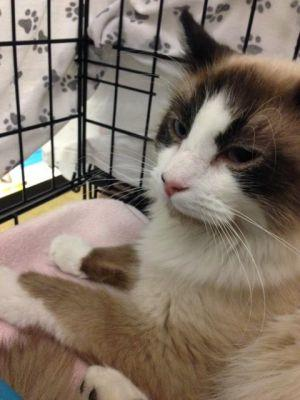ragdoll: (140, 1, 300, 249)
